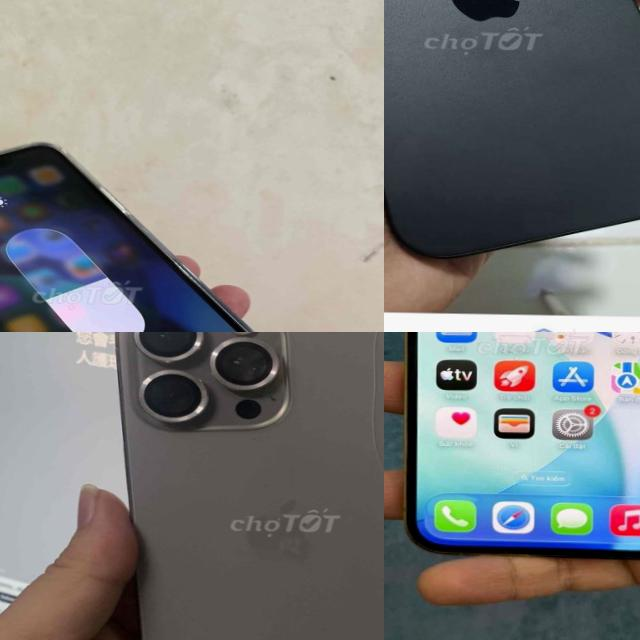physical_damage: (366, 463, 384, 526), (360, 377, 384, 422), (361, 419, 384, 464), (358, 344, 384, 378), (355, 332, 384, 347)
